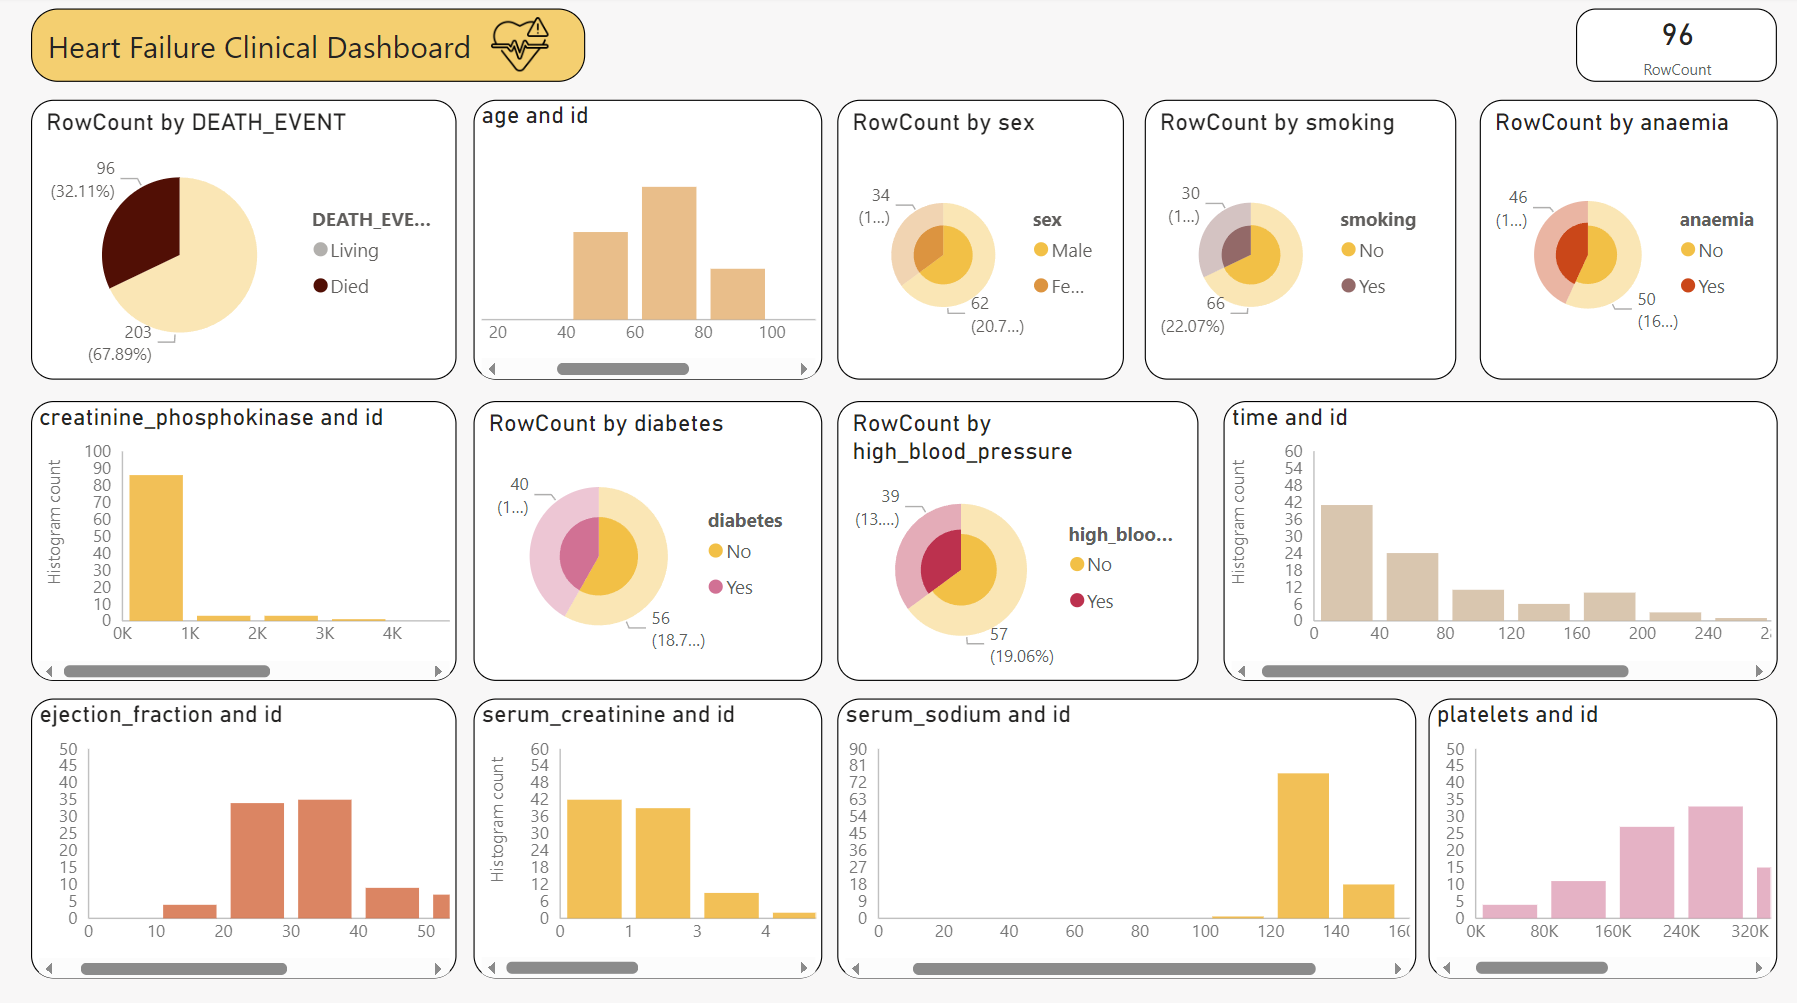

The page's visual inventory and layout, read from the dashboard file:
{"tool":"powerbi","page":{"name":"Page 1","canvas":[1280,720],"ordinal":0},"visuals":[{"type":"histogramXY6E3D5691159E41859A007A262D4B0E9E","fields":{"xAxis":["heart_failure_clinical_records_powerbi.age"],"yAxis":["heart_failure_clinical_records_powerbi.id"]},"box":[338.4,73.5,247.2,198.5],"z":0},{"type":"pieChart","fields":{"Category":["heart_failure_clinical_records_powerbi.DEATH_EVENT"],"Y":["heart_failure_clinical_records_powerbi.RowCount"]},"box":[24.8,73.5,301.2,198.5],"z":1000},{"type":"pieChart","fields":{"Y":["heart_failure_clinical_records_powerbi.RowCount"],"Category":["heart_failure_clinical_records_powerbi.anaemia"]},"box":[1051.8,73.6,210.9,198.2],"z":2000},{"type":"textbox","box":[24.8,8.9,392.5,52.3],"z":3000},{"type":"image","box":[326,8.9,89.5,50.5],"z":4000},{"type":"card","fields":{"Values":["heart_failure_clinical_records_powerbi.RowCount"]},"box":[1119.8,8.9,142.6,52.3],"z":5000},{"type":"pieChart","fields":{"Y":["heart_failure_clinical_records_powerbi.RowCount"],"Category":["heart_failure_clinical_records_powerbi.diabetes"]},"box":[338.4,287,247.2,198.5],"z":6000},{"type":"pieChart","fields":{"Y":["heart_failure_clinical_records_powerbi.RowCount"],"Category":["heart_failure_clinical_records_powerbi.high_blood_pressure"]},"box":[596.2,287,256,198.5],"z":7000},{"type":"pieChart","fields":{"Y":["heart_failure_clinical_records_powerbi.RowCount"],"Category":["heart_failure_clinical_records_powerbi.sex"]},"box":[596.2,73.5,202.9,198.5],"z":8000},{"type":"pieChart","fields":{"Category":["heart_failure_clinical_records_powerbi.smoking"],"Y":["heart_failure_clinical_records_powerbi.RowCount"]},"box":[814.5,73.6,220.9,198.2],"z":9000},{"type":"histogramXY6E3D5691159E41859A007A262D4B0E9E","fields":{"xAxis":["heart_failure_clinical_records_powerbi.creatinine_phosphokinase"],"yAxis":["heart_failure_clinical_records_powerbi.id"]},"box":[24.8,287,301.2,198.5],"z":10000},{"type":"histogramXY6E3D5691159E41859A007A262D4B0E9E","fields":{"xAxis":["heart_failure_clinical_records_powerbi.time"],"yAxis":["heart_failure_clinical_records_powerbi.id"]},"box":[870,287,392.5,198.5],"z":11000},{"type":"histogramXY6E3D5691159E41859A007A262D4B0E9E","fields":{"xAxis":["heart_failure_clinical_records_powerbi.ejection_fraction"],"yAxis":["heart_failure_clinical_records_powerbi.id"]},"box":[24.8,497.9,301.2,198.5],"z":12000},{"type":"histogramXY6E3D5691159E41859A007A262D4B0E9E","fields":{"xAxis":["heart_failure_clinical_records_powerbi.platelets"],"yAxis":["heart_failure_clinical_records_powerbi.id"]},"box":[1015.3,497.9,247.2,198.5],"z":13000},{"type":"histogramXY6E3D5691159E41859A007A262D4B0E9E","fields":{"xAxis":["heart_failure_clinical_records_powerbi.serum_creatinine"],"yAxis":["heart_failure_clinical_records_powerbi.id"]},"box":[338.4,497.9,247.2,198.5],"z":14000},{"type":"histogramXY6E3D5691159E41859A007A262D4B0E9E","fields":{"xAxis":["heart_failure_clinical_records_powerbi.serum_sodium"],"yAxis":["heart_failure_clinical_records_powerbi.id"]},"box":[596.2,497.9,410.2,198.5],"z":15000}]}

Visuals, with their boxes in screenshot pixels (x1, y1, x2, y2), scaled from the page's 1280x720 canvas onto the 1797x1003 screenshot:
histogramXY6E3D5691159E41859A007A262D4B0E9E - heart_failure_clinical_records_powerbi.age x heart_failure_clinical_records_powerbi.id: (x1=475, y1=102, x2=822, y2=379)
pieChart - heart_failure_clinical_records_powerbi.DEATH_EVENT x heart_failure_clinical_records_powerbi.RowCount: (x1=35, y1=102, x2=458, y2=379)
pieChart - heart_failure_clinical_records_powerbi.RowCount x heart_failure_clinical_records_powerbi.anaemia: (x1=1477, y1=103, x2=1773, y2=379)
textbox: (x1=35, y1=12, x2=586, y2=85)
image: (x1=458, y1=12, x2=583, y2=83)
card - heart_failure_clinical_records_powerbi.RowCount: (x1=1572, y1=12, x2=1772, y2=85)
pieChart - heart_failure_clinical_records_powerbi.RowCount x heart_failure_clinical_records_powerbi.diabetes: (x1=475, y1=400, x2=822, y2=676)
pieChart - heart_failure_clinical_records_powerbi.RowCount x heart_failure_clinical_records_powerbi.high_blood_pressure: (x1=837, y1=400, x2=1196, y2=676)
pieChart - heart_failure_clinical_records_powerbi.RowCount x heart_failure_clinical_records_powerbi.sex: (x1=837, y1=102, x2=1122, y2=379)
pieChart - heart_failure_clinical_records_powerbi.smoking x heart_failure_clinical_records_powerbi.RowCount: (x1=1143, y1=103, x2=1454, y2=379)
histogramXY6E3D5691159E41859A007A262D4B0E9E - heart_failure_clinical_records_powerbi.creatinine_phosphokinase x heart_failure_clinical_records_powerbi.id: (x1=35, y1=400, x2=458, y2=676)
histogramXY6E3D5691159E41859A007A262D4B0E9E - heart_failure_clinical_records_powerbi.time x heart_failure_clinical_records_powerbi.id: (x1=1221, y1=400, x2=1772, y2=676)
histogramXY6E3D5691159E41859A007A262D4B0E9E - heart_failure_clinical_records_powerbi.ejection_fraction x heart_failure_clinical_records_powerbi.id: (x1=35, y1=694, x2=458, y2=970)
histogramXY6E3D5691159E41859A007A262D4B0E9E - heart_failure_clinical_records_powerbi.platelets x heart_failure_clinical_records_powerbi.id: (x1=1425, y1=694, x2=1772, y2=970)
histogramXY6E3D5691159E41859A007A262D4B0E9E - heart_failure_clinical_records_powerbi.serum_creatinine x heart_failure_clinical_records_powerbi.id: (x1=475, y1=694, x2=822, y2=970)
histogramXY6E3D5691159E41859A007A262D4B0E9E - heart_failure_clinical_records_powerbi.serum_sodium x heart_failure_clinical_records_powerbi.id: (x1=837, y1=694, x2=1413, y2=970)
